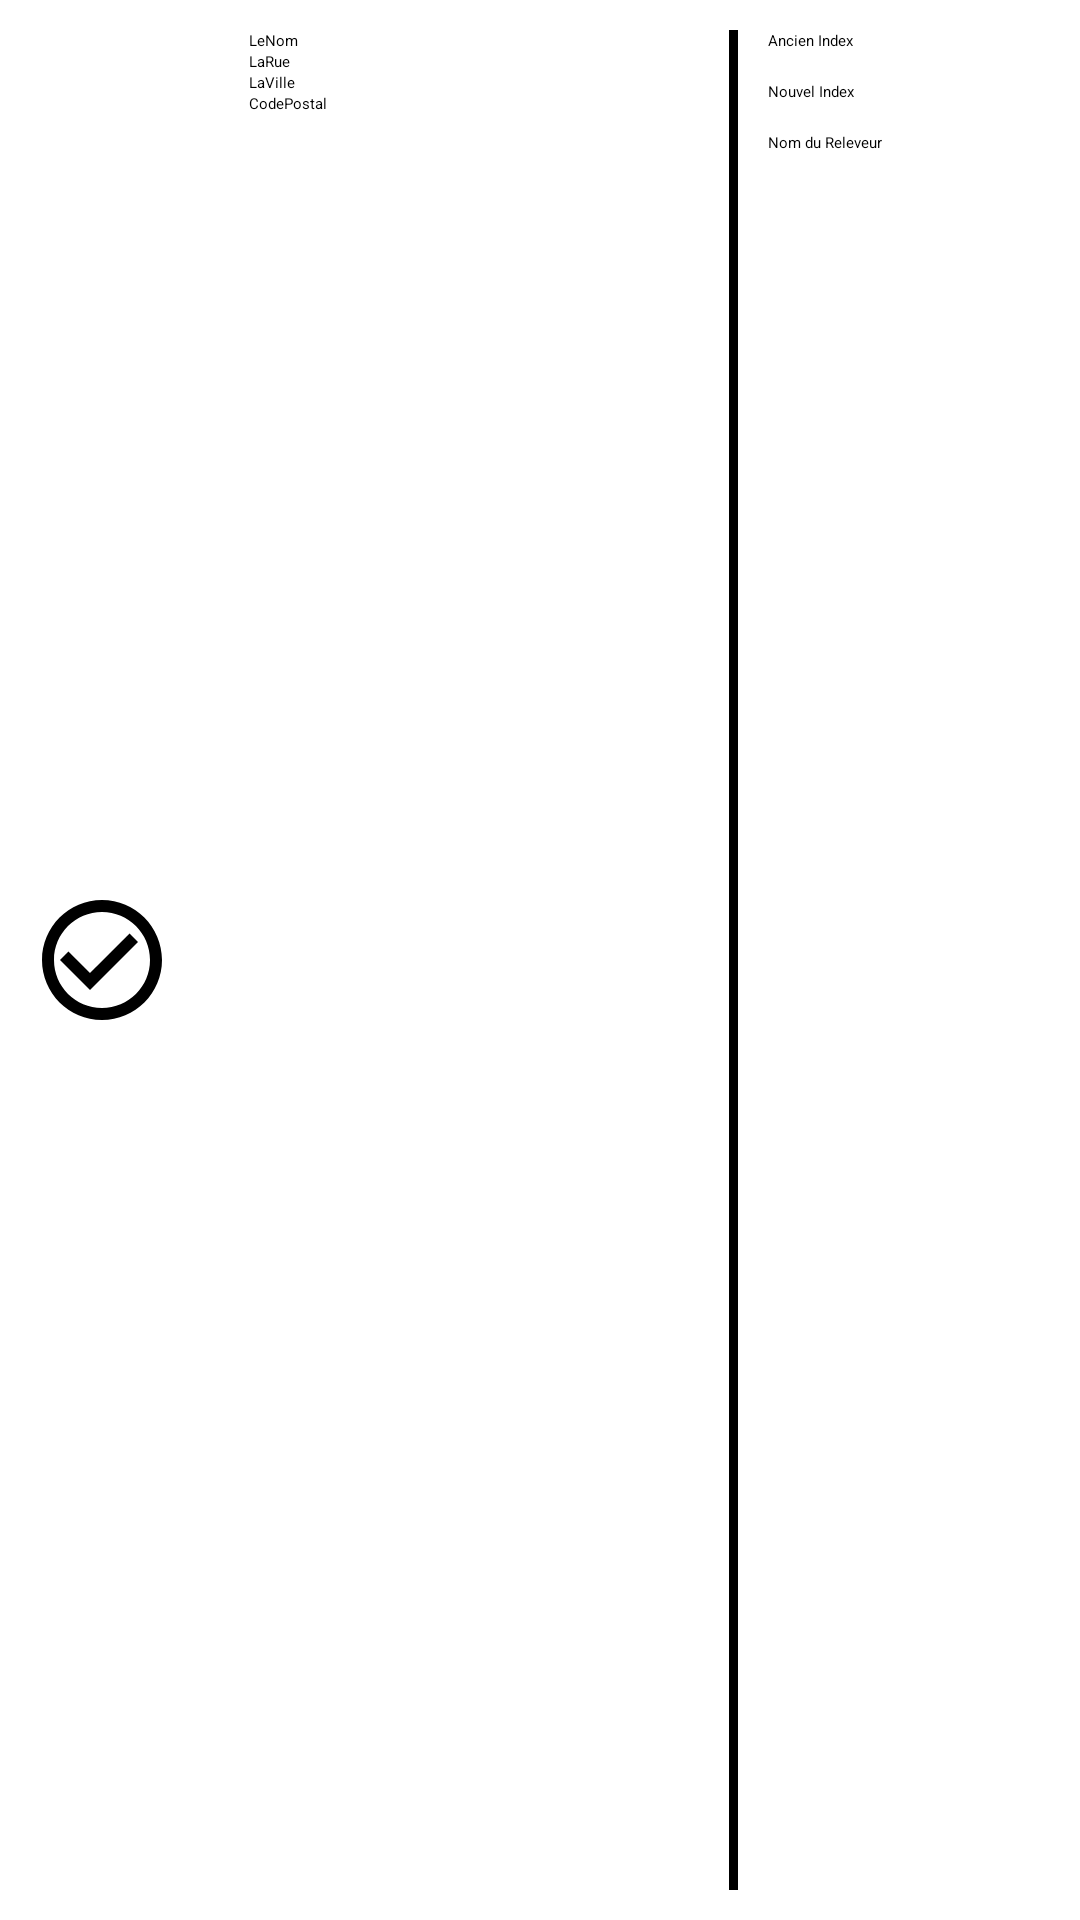

Screen size 1080×1920. Icon name, then its box in pixels as (x1,y1,x2,y2):
check circle: (42,900,162,1020)
